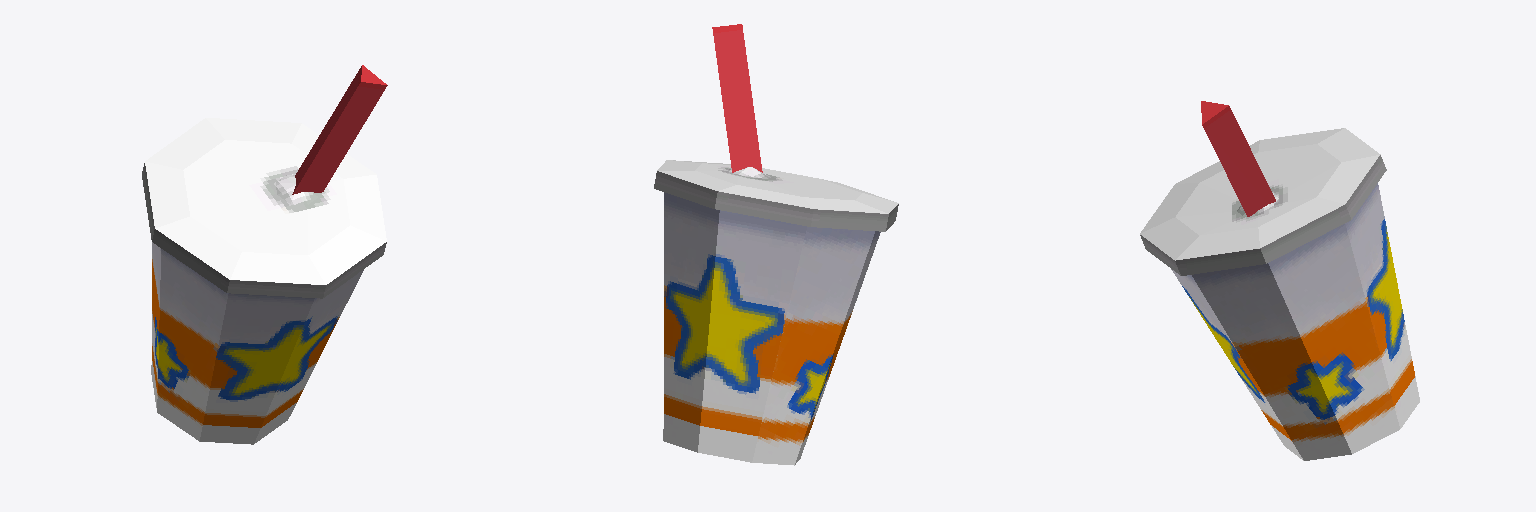
3 views of the same model, side by side, from view 1: azimuth 30°, elevation 25°; view 2: azimuth 150°, elevation 25°; view 3: azimuth 270°, elevation 25° (orthographic).
Parts seen in each view (by area): view 1: polygon0; view 2: polygon0; view 3: polygon0.
Part boxes in pixels (bbox=[...]): polygon0: bbox=[142, 65, 387, 444]; polygon0: bbox=[654, 24, 898, 465]; polygon0: bbox=[1140, 101, 1419, 460].
Bounding box in the file's own units: 0.6692 × 1.1 × 0.7326.
1 materials, 1 textured.